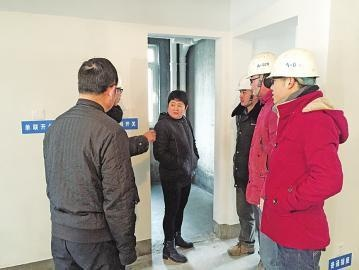none: (73, 54, 120, 114), (164, 87, 191, 121)
white: (267, 47, 322, 106), (244, 49, 279, 93), (234, 75, 257, 108)
